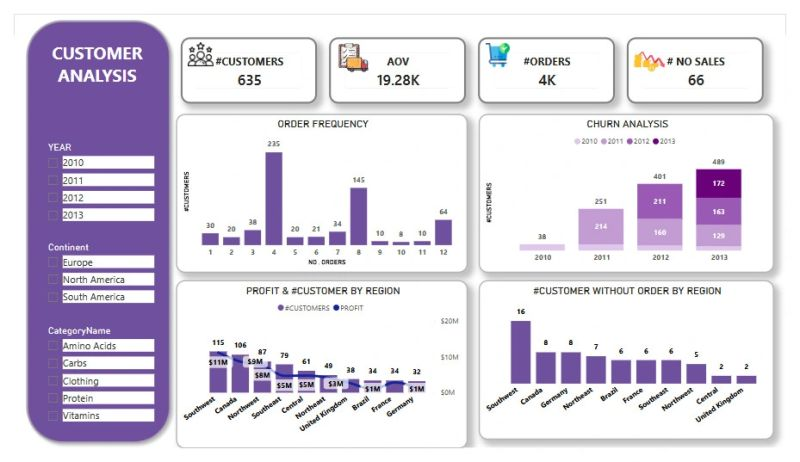

What the dashboard file says about the page in this screenshot:
{"tool":"powerbi","page":{"name":"CUSTOMER","canvas":[1280,720],"ordinal":1},"visuals":[{"type":"shape","box":[10.3,0,258.8,720.6],"z":0},{"type":"clusteredColumnChart","title":"ORDER FREQUENCY","fields":{"Category":["Customer.NO . ORDERS"],"Y":["CALCULATIONS.#CUSTOMERS"]},"box":[268.3,165.1,484.1,263.5],"z":1000},{"type":"cardVisual","fields":{"Data":["CALCULATIONS.#CUSTOMERS"]},"box":[276.2,38.1,225.4,109.5],"z":2000},{"type":"cardVisual","fields":{"Data":["CALCULATIONS.AOV"]},"box":[521.7,38.1,227,109.5],"z":3000},{"type":"cardVisual","fields":{"Data":["CALCULATIONS.#ORDERS"]},"box":[768.8,38.1,227,109.5],"z":4000},{"type":"cardVisual","fields":{"Data":["CALCULATIONS.NO SALES"]},"box":[1015.9,38.1,227,109.5],"z":5000},{"type":"columnChart","title":"CHURN ANALYSIS","fields":{"Category":["CALENDER Table.YEAR"],"Series":["Customer.FIRST ORDER"],"Y":["CALCULATIONS.#CUSTOMERS"]},"box":[769.8,165.1,490.5,263.5],"z":6000},{"type":"lineClusteredColumnComboChart","title":"PROFIT & #CUSTOMER BY REGION","fields":{"Category":["Customer.Region"],"Y":["CALCULATIONS.#CUSTOMERS"],"Y2":["CALCULATIONS.PROFIT"]},"box":[268.3,441.3,484.1,279.4],"z":7000},{"type":"lineClusteredColumnComboChart","title":" #CUSTOMER WITHOUT ORDER BY REGION","fields":{"Category":["Customer.Region"],"Y":["CALCULATIONS.NO SALES"]},"box":[769.8,441.3,490.5,265.1],"z":8000},{"type":"slicer","fields":{"Values":["CALENDER Table.YEAR"]},"box":[42.9,206.3,193.7,165.1],"z":9000},{"type":"slicer","fields":{"Values":["Customer.Continent"]},"box":[42.9,371.4,193.7,138.1],"z":10000},{"type":"slicer","fields":{"Values":["Product.CategoryName"]},"box":[42.9,509.5,193.7,184.1],"z":11000},{"type":"image","box":[287.3,38.1,42.9,55.6],"z":12000},{"type":"image","box":[781,41.3,41.3,52.4],"z":13000},{"type":"image","box":[1027,52.4,52.4,52.4],"z":14000},{"type":"image","box":[538.1,38.1,49.2,66.7],"z":15000},{"type":"actionButton","box":[36.5,41.3,200,144.4],"z":16000}]}

Visuals, with their boxes in screenshot pixels (x1, y1, x2, y2), scaled from the page's 1280x720 canvas onto the 800x462 screenshot:
shape: bbox=[6, 0, 168, 461]
"ORDER FREQUENCY" clusteredColumnChart: bbox=[168, 106, 470, 275]
cardVisual - CALCULATIONS.#CUSTOMERS: bbox=[173, 24, 314, 95]
cardVisual - CALCULATIONS.AOV: bbox=[326, 24, 468, 95]
cardVisual - CALCULATIONS.#ORDERS: bbox=[480, 24, 622, 95]
cardVisual - CALCULATIONS.NO SALES: bbox=[635, 24, 777, 95]
"CHURN ANALYSIS" columnChart: bbox=[481, 106, 788, 275]
"PROFIT & #CUSTOMER BY REGION" lineClusteredColumnComboChart: bbox=[168, 283, 470, 461]
" #CUSTOMER WITHOUT ORDER BY REGION" lineClusteredColumnComboChart: bbox=[481, 283, 788, 453]
slicer - CALENDER Table.YEAR: bbox=[27, 132, 148, 238]
slicer - Customer.Continent: bbox=[27, 238, 148, 327]
slicer - Product.CategoryName: bbox=[27, 327, 148, 445]
image: bbox=[180, 24, 206, 60]
image: bbox=[488, 27, 514, 60]
image: bbox=[642, 34, 675, 67]
image: bbox=[336, 24, 367, 67]
actionButton: bbox=[23, 27, 148, 119]
